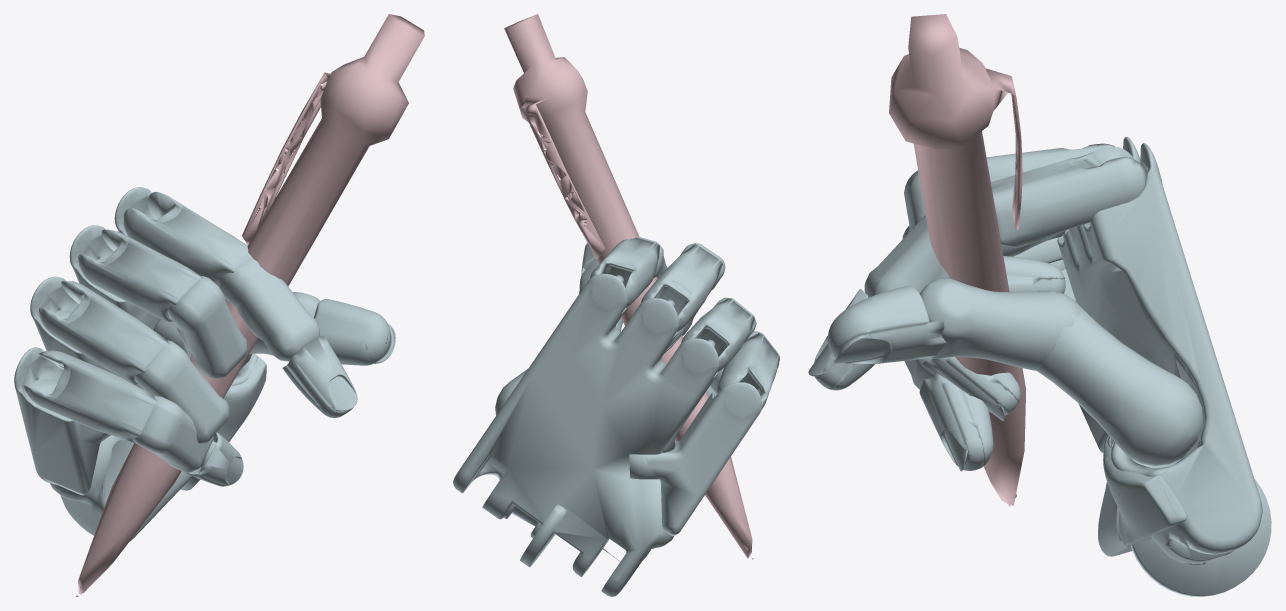
3 renders of one model, left to right at view 1: azimuth 30°, elevation 25°; view 2: azimuth 150°, elevation 25°; view 3: azimuth 270°, elevation 25°, orthographic. The views are drawn at different scales.
Visible parts, largest first — view 1: world; view 2: world; view 3: world.
Part boxes in pixels (<box>): world: <box>14,14,424,596</box>; world: <box>453,14,779,596</box>; world: <box>808,14,1271,596</box>.
Size of the model in its own units: 0.1391 by 0.2046 by 0.126.
